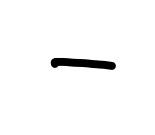minus: (51, 57, 116, 77)
